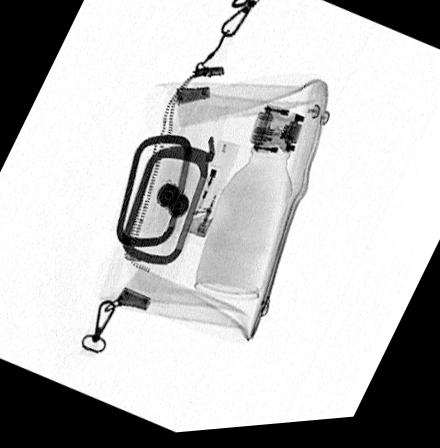Lighter: (181, 143, 239, 242)
